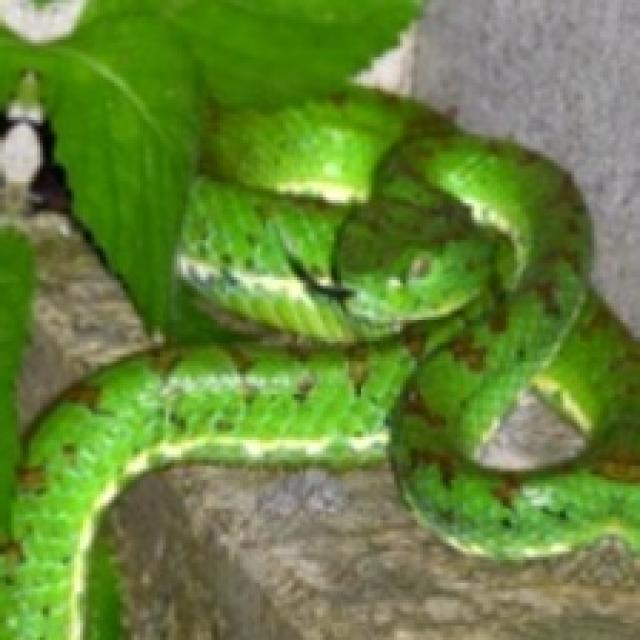philippine pitviper: (3, 89, 637, 637)
